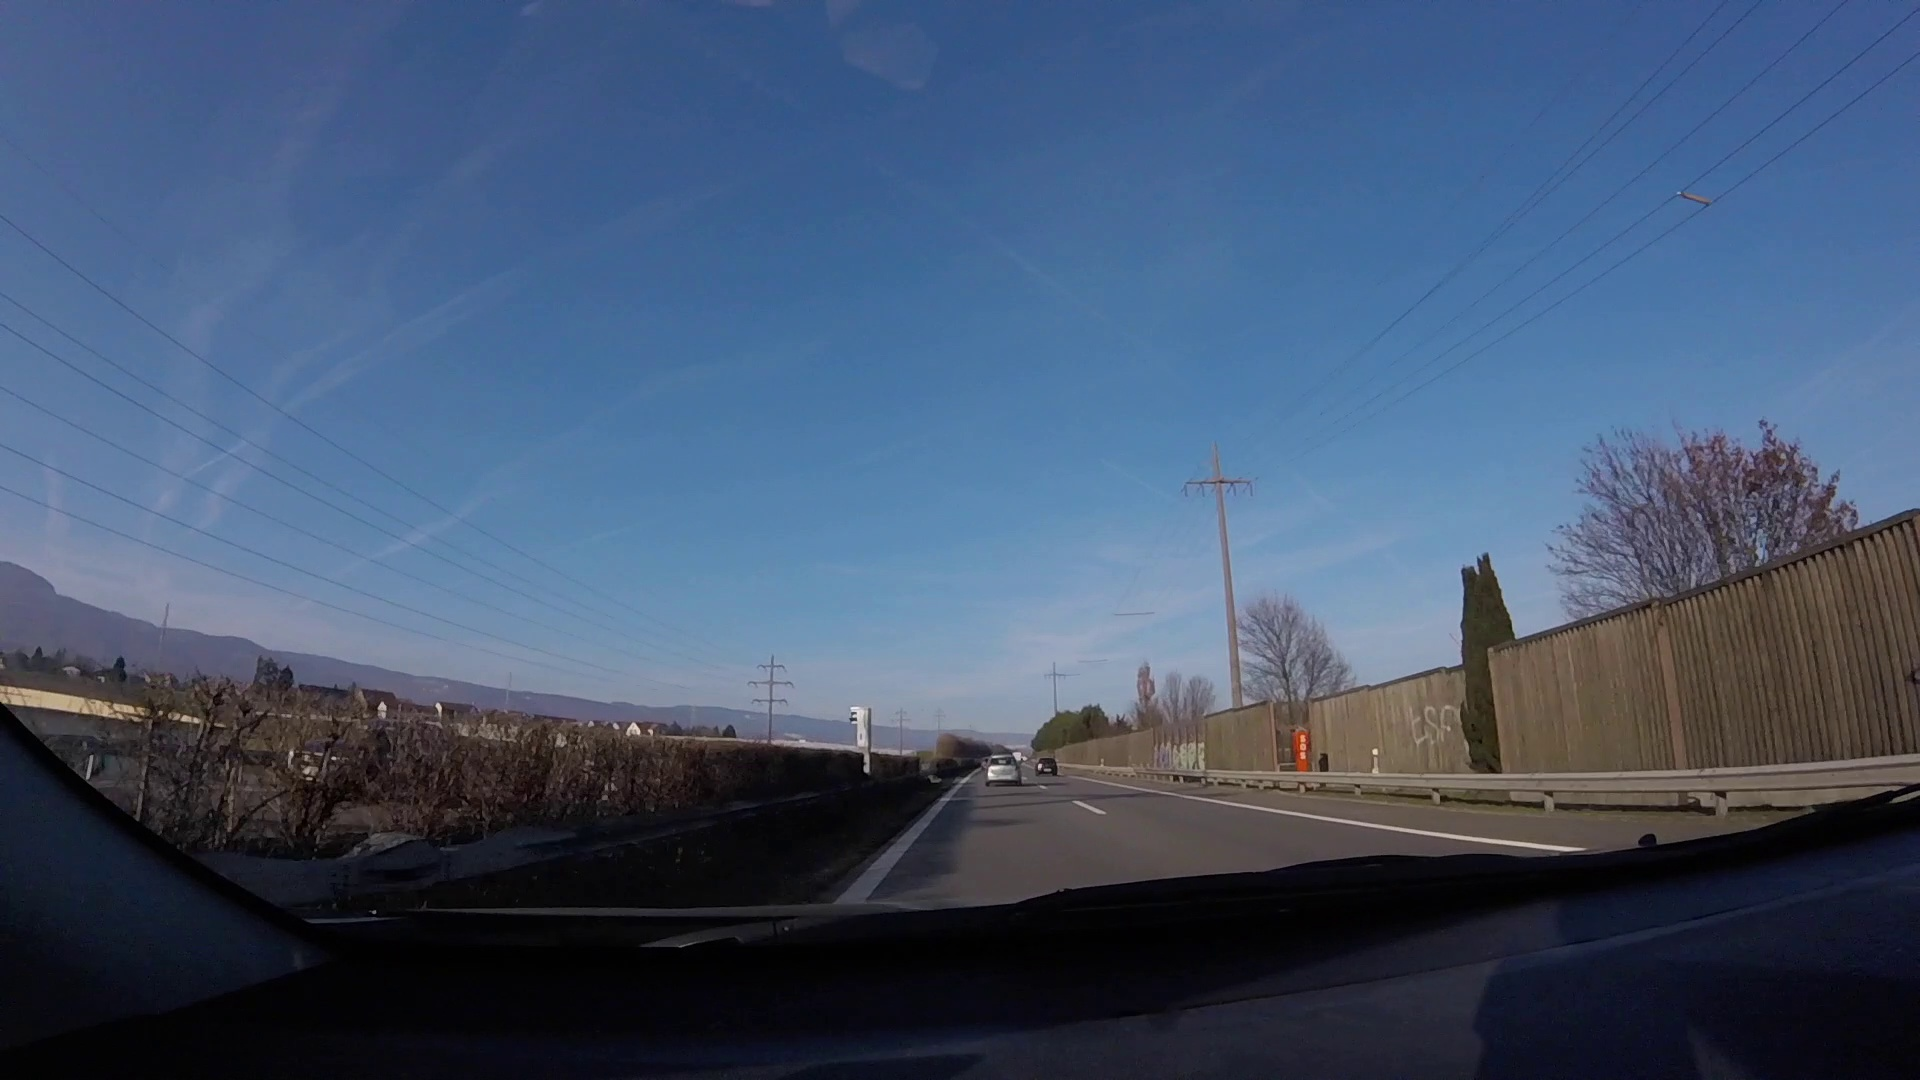radar: (849, 705, 876, 777)
